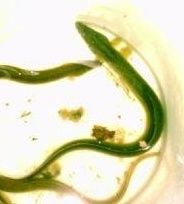Anguilla anguilla: (20, 20, 164, 184)
